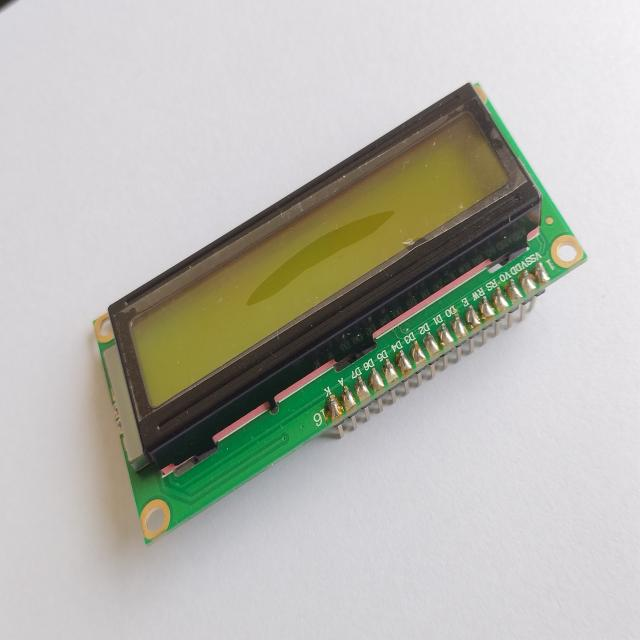lcd: (83, 82, 592, 557)
